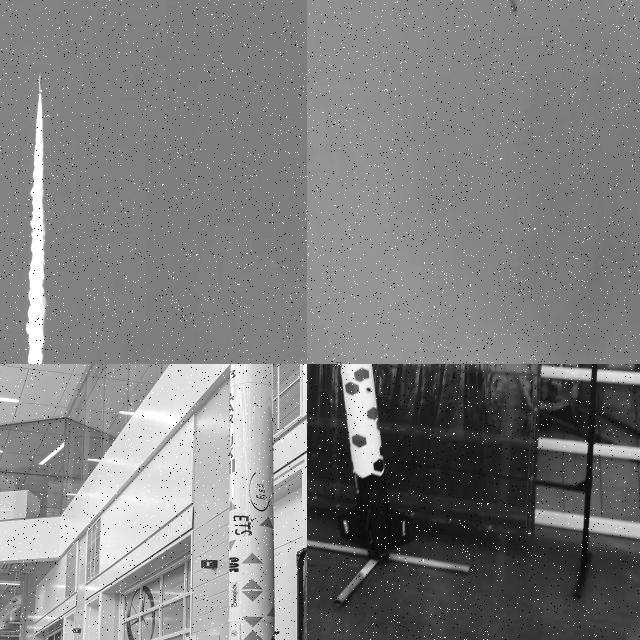Rocket: (338, 364, 414, 560), (229, 364, 275, 640), (505, 0, 517, 11), (38, 72, 42, 96)
